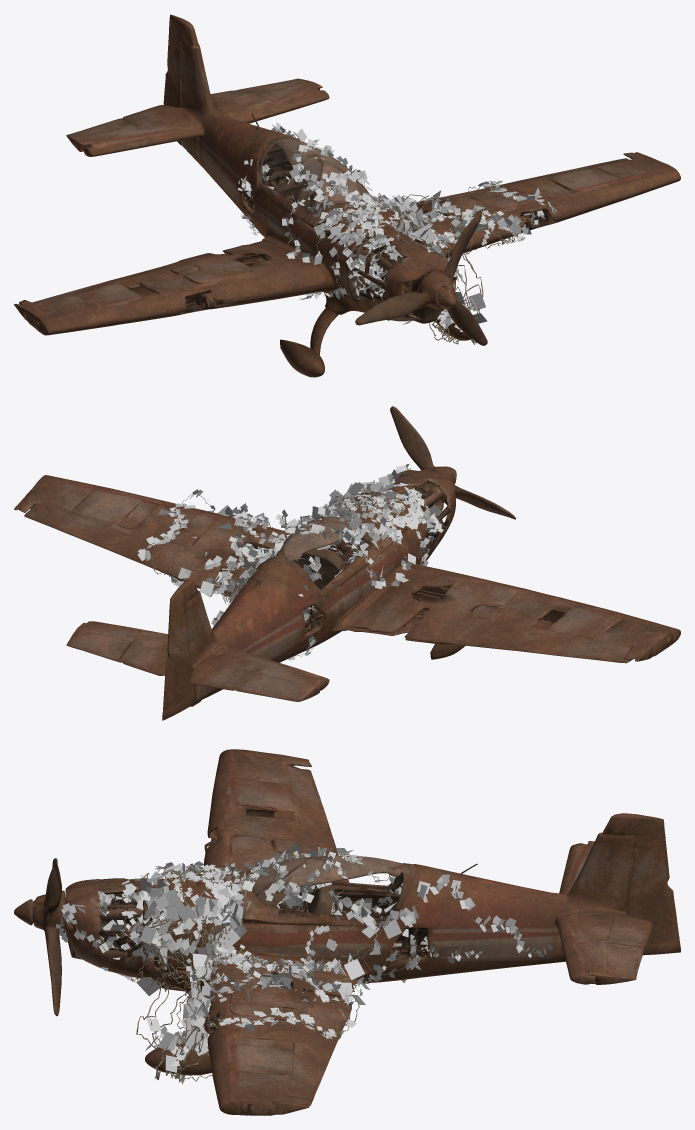
3 renders of one model, top to bottom at view 1: azimuth 30°, elevation 25°; view 2: azimuth 150°, elevation 25°; view 3: azimuth 270°, elevation 25°, orthographic. The views are drawn at different scales.
Parts seen in each view (by area): view 1: SM_aircraft_, SM_ivyLeaves_, SM_ivyBranch_; view 2: SM_aircraft_, SM_ivyLeaves_, SM_ivyBranch_; view 3: SM_aircraft_, SM_ivyLeaves_, SM_ivyBranch_.
Part boxes in pixels (box(x1,y1,x2,y2)): SM_aircraft_: box(14, 14, 680, 377); SM_ivyLeaves_: box(238, 122, 557, 331); SM_ivyBranch_: box(242, 131, 551, 344); SM_aircraft_: box(14, 406, 680, 720); SM_ivyLeaves_: box(137, 464, 443, 660); SM_ivyBranch_: box(145, 477, 439, 656); SM_aircraft_: box(14, 749, 680, 1115); SM_ivyLeaves_: box(56, 841, 553, 1072); SM_ivyBranch_: box(62, 848, 548, 1083).
Size of the model in its own units: 2158 by 648 by 1724.
